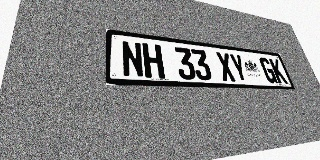3: (174, 47, 197, 80), (191, 49, 213, 81)
G: (258, 57, 278, 83)
H: (142, 43, 165, 79)
K: (269, 58, 288, 84)
N: (121, 40, 145, 78)
X: (215, 52, 237, 82)
Y: (228, 53, 249, 82)
